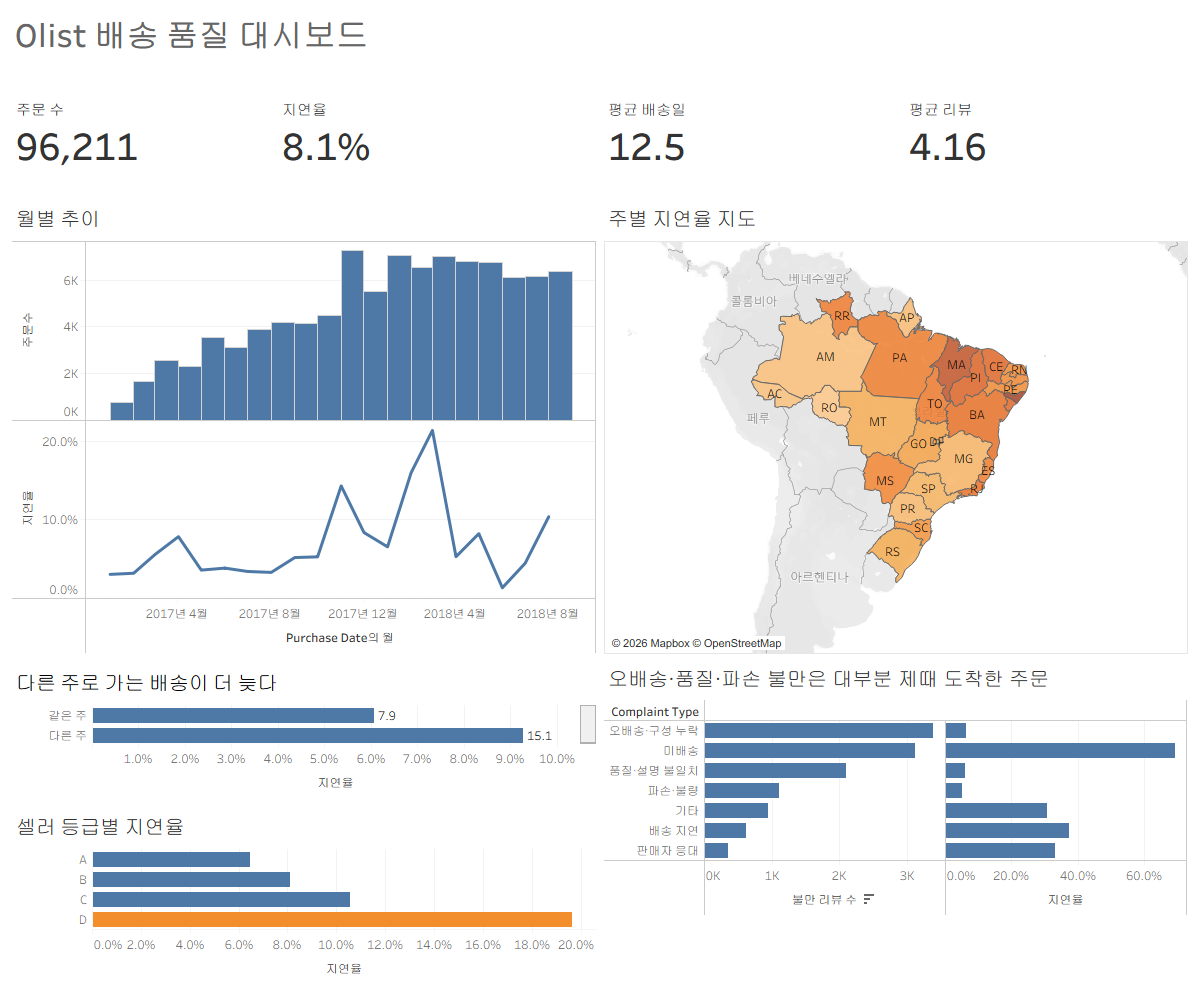

The page's visual inventory and layout, read from the dashboard file:
{"tool":"tableau","page":{"name":"대시보드 1","canvas":[1200,1000],"ordinal":0},"visuals":[{"type":"text","box":[8,8,1184,52]},{"type":"worksheet","title":"KPI_주문수","mark":"Automatic","box":[8,94.6,265.9,99.2]},{"type":"worksheet","title":"KPI_지연율","mark":"Automatic","box":[273.9,94.6,326.1,99.2]},{"type":"worksheet","title":"KPI_배송일","mark":"Automatic","box":[600,94.6,300.8,99.2]},{"type":"worksheet","title":"KPI_리뷰","mark":"Automatic","box":[900.8,94.6,291.2,99.2]},{"type":"worksheet","title":"월별 추이","mark":"Automatic","rows":["Calculation_2533883709657094"],"cols":["purchase_date"],"box":[8,193.8,592,464.2]},{"type":"worksheet","title":"주별 지연율 지도","mark":"Multipolygon","box":[600,193.8,592,464.2]},{"type":"worksheet","title":"같은 주 vs 다른 주","mark":"Automatic","rows":["same_state"],"cols":["Calculation_2533883709657094"],"box":[8,658,592,144]},{"type":"worksheet","title":"불만 유형","mark":"Automatic","rows":["complaint_type"],"cols":["Calculation_2533883709865993","Calculation_2533883709657094"],"box":[600,658,592,334]},{"type":"worksheet","title":"셀러 등급별 지연율","mark":"Automatic","rows":["seller_grade"],"cols":["Calculation_2533883709657094"],"box":[8,802,592,190]}]}

Visuals, with their boxes in screenshot pixels (x1, y1, x2, y2), scaled from the page's 1200x1000 canvas onto the 1200x1000 screenshot:
text: [8,8,1192,60]
"KPI_주문수" worksheet: [8,95,274,194]
"KPI_지연율" worksheet: [274,95,600,194]
"KPI_배송일" worksheet: [600,95,901,194]
"KPI_리뷰" worksheet: [901,95,1192,194]
"월별 추이" worksheet: [8,194,600,658]
"주별 지연율 지도" worksheet (Multipolygon marks): [600,194,1192,658]
"같은 주 vs 다른 주" worksheet: [8,658,600,802]
"불만 유형" worksheet: [600,658,1192,992]
"셀러 등급별 지연율" worksheet: [8,802,600,992]
